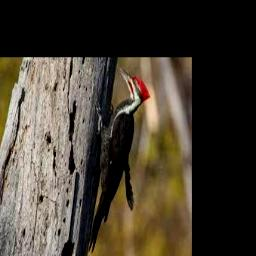Woodpecker: (88, 65, 150, 253)
